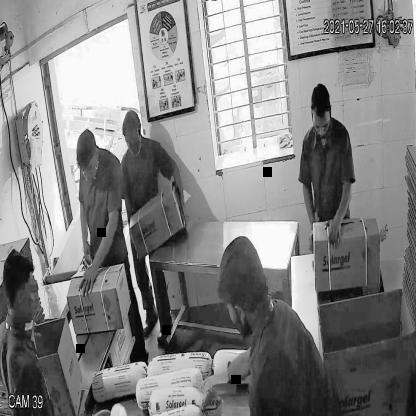no_goggles: (310, 115, 334, 134)
